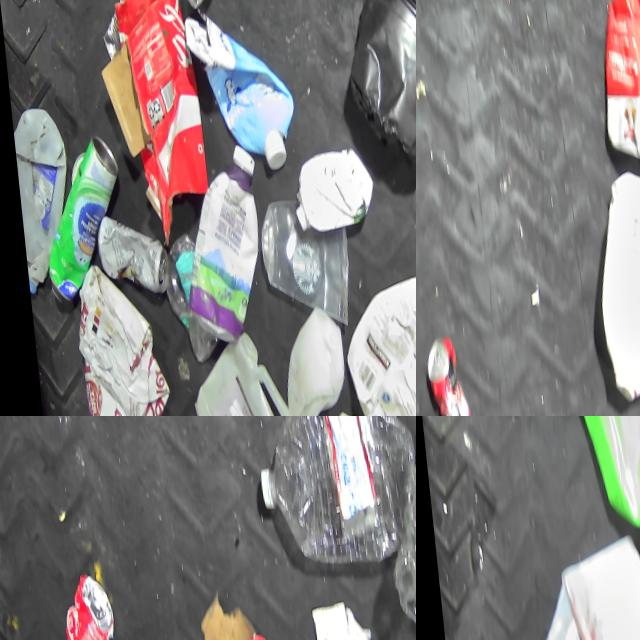can: (27, 133, 123, 306), (85, 213, 163, 295), (416, 331, 464, 416), (48, 572, 106, 640)
milk_jug: (513, 532, 640, 640), (327, 262, 416, 416), (582, 168, 640, 401), (5, 105, 72, 294), (176, 329, 285, 416), (267, 307, 339, 416)
non_white_jug: (166, 142, 262, 341), (179, 11, 294, 168), (547, 416, 640, 541), (591, 0, 640, 155)
plastic_bottle: (242, 416, 416, 563)
